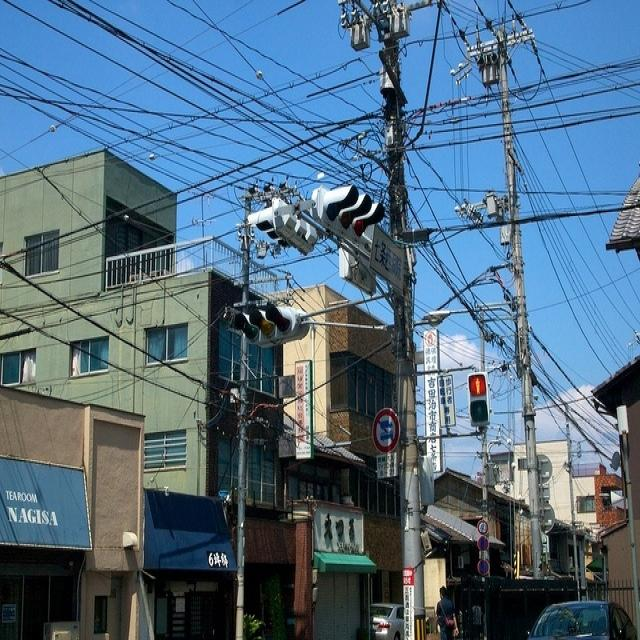Cable: (4, 2, 640, 637)
